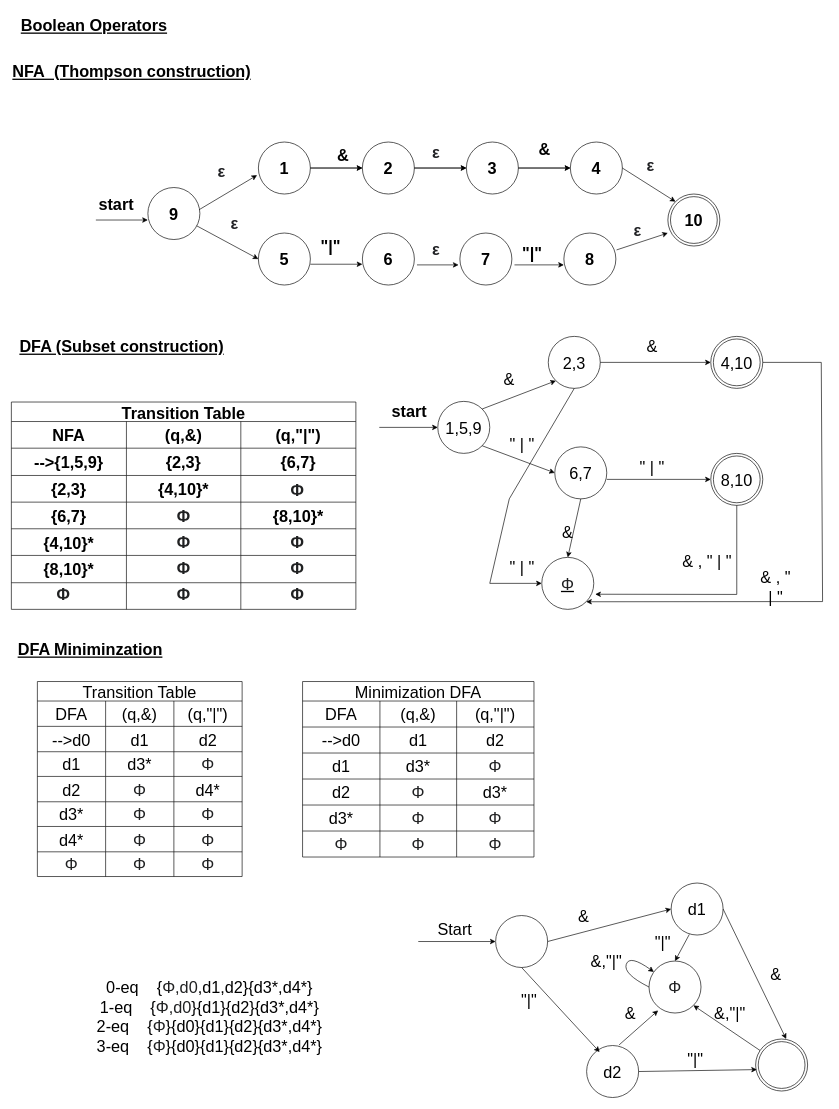
Image size: 839x1109. Some labels were removed from this diagram. The centre of each missing label's shape, as x and y in pixels:
d0: (x=521, y=941)
d3: (x=781, y=1064)
